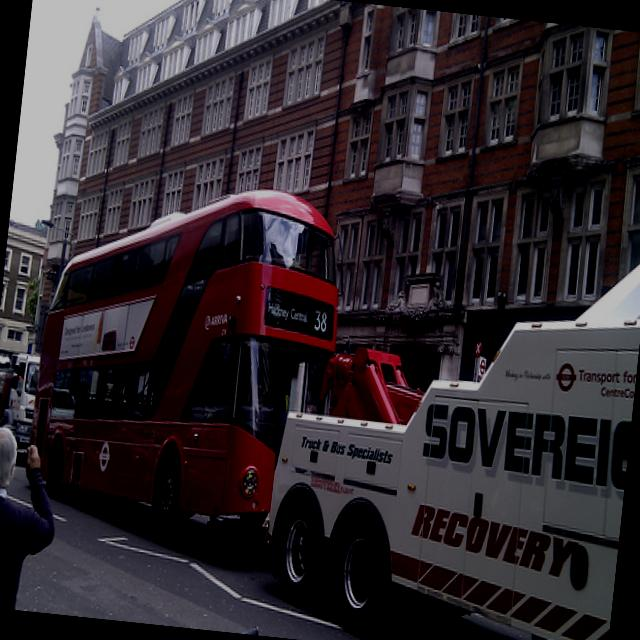Vehicle: (254, 196, 640, 640), (20, 168, 349, 559), (0, 346, 39, 463)
